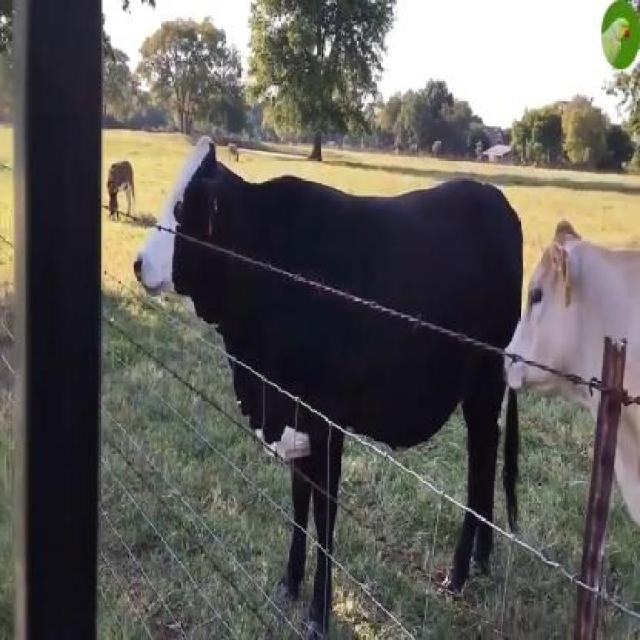Cow: (133, 139, 522, 606)
